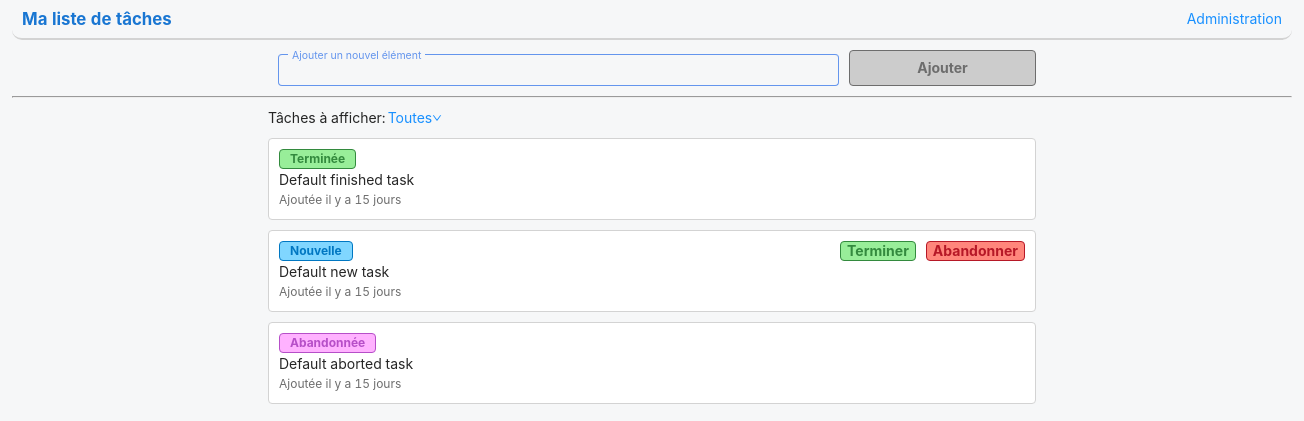
Todo list app › Display default aborted todo list
This screenshot has width=1304, height=421.
What coordinates should you click on to do the following:
click the link with class "filters-dropdown"
I would click on:
 (416, 118)
Its box is top-left (388, 107), bottom-right (443, 129).
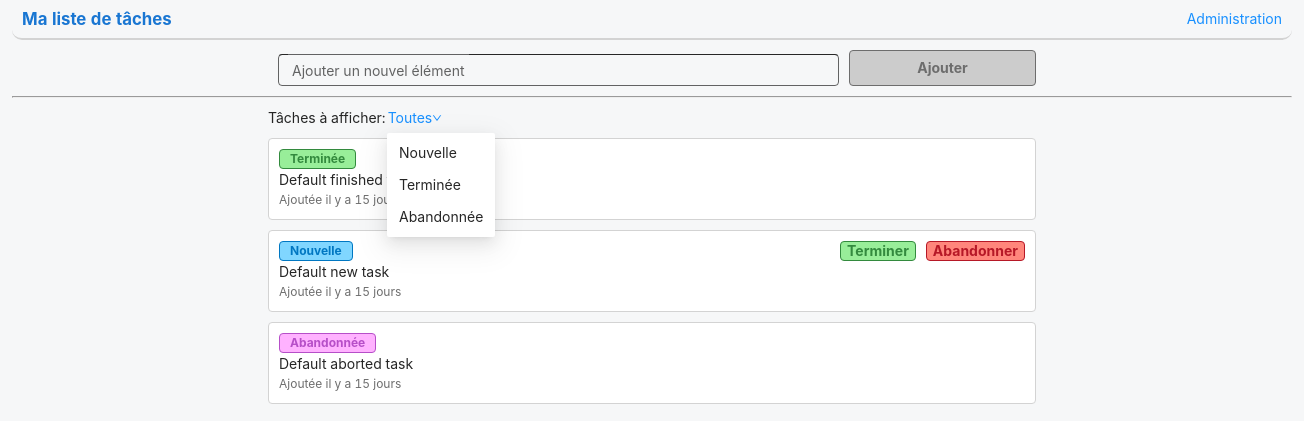
What coordinates should you click on to do the following:
click the link with class "aborted-filter-element"
I would click on:
 (441, 217)
Its box is top-left (399, 208), bottom-right (483, 225).
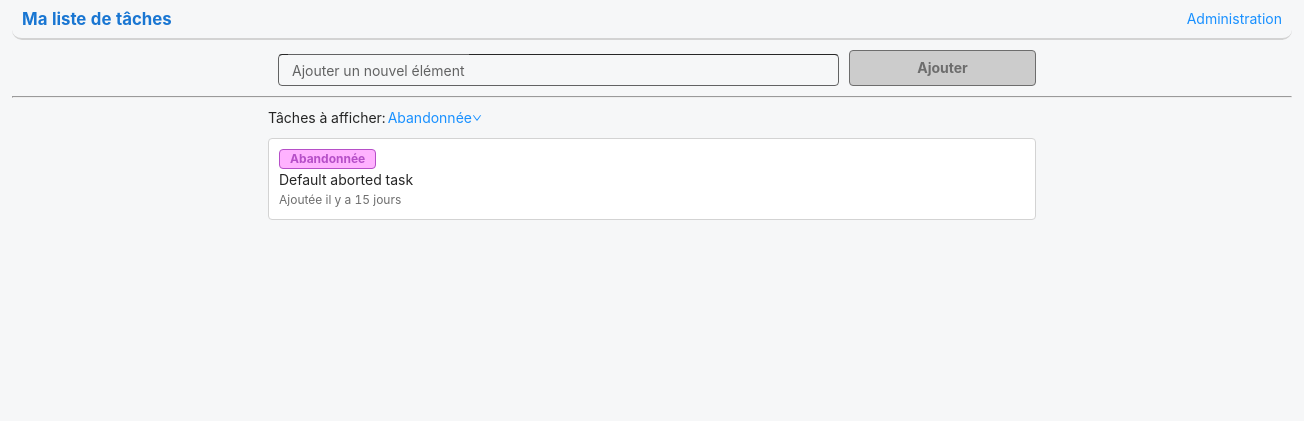
Now the number of elements with class "todo-item" is 1, box top-left (268, 138), bottom-right (1036, 220)
